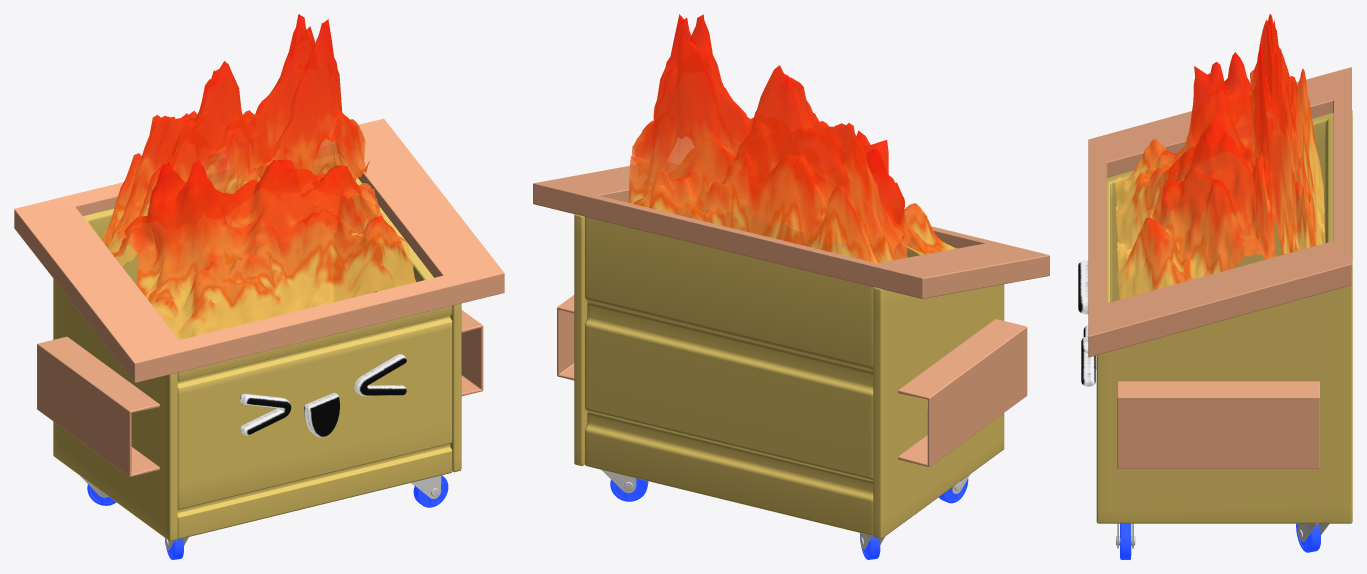
The picture shows the model from 3 angles, left to right: view 1: azimuth 30°, elevation 25°; view 2: azimuth 150°, elevation 25°; view 3: azimuth 270°, elevation 25°; orthographic projection. The views are drawn at different scales.
Visible parts, largest first — view 1: Dumpster Geometry, Small Fire.008, Fire Small Back.008, Wheel Holder; view 2: Dumpster Geometry, Fire Small Back.008, Small Fire.008, Wheel Holder; view 3: Dumpster Geometry, Small Fire.008, Fire Small Back.008, Wheel Holder.
Boxes of the visible parts, <box> form: Dumpster Geometry: <box>14,118,504,559</box>; Small Fire.008: <box>111,159,415,339</box>; Fire Small Back.008: <box>101,14,370,271</box>; Wheel Holder: <box>80,475,441,549</box>; Dumpster Geometry: <box>533,162,1049,559</box>; Fire Small Back.008: <box>628,14,903,263</box>; Small Fire.008: <box>637,130,956,260</box>; Wheel Holder: <box>602,470,970,549</box>; Dumpster Geometry: <box>1078,67,1352,559</box>; Small Fire.008: <box>1115,52,1275,299</box>; Fire Small Back.008: <box>1250,14,1325,254</box>; Wheel Holder: <box>1116,523,1329,548</box>.
Bounding box in the file's own units: 2.41 × 2.86 × 1.42.
Materials: 7 (3 with a texture image).
